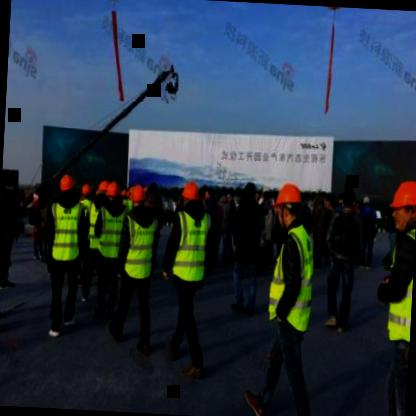helmet: (388, 176, 416, 237), (272, 182, 306, 232), (178, 181, 202, 211), (58, 172, 78, 200), (128, 182, 146, 212), (96, 175, 112, 198), (107, 179, 122, 202), (80, 178, 94, 202)
